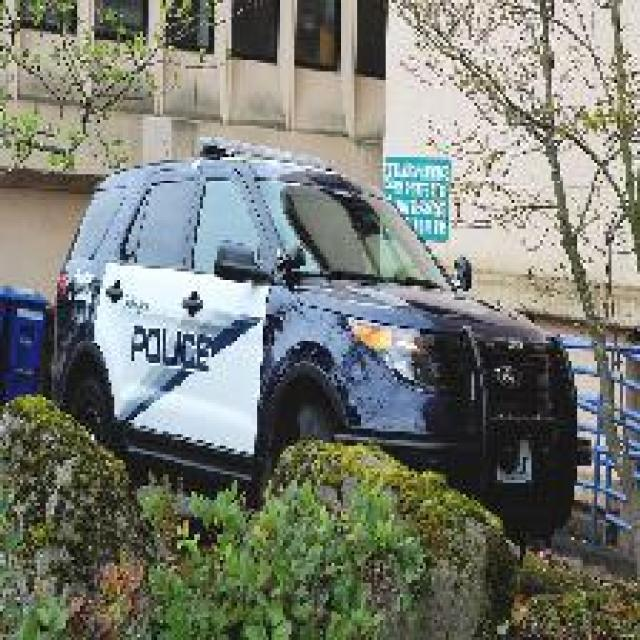emergency: (43, 136, 581, 536)
